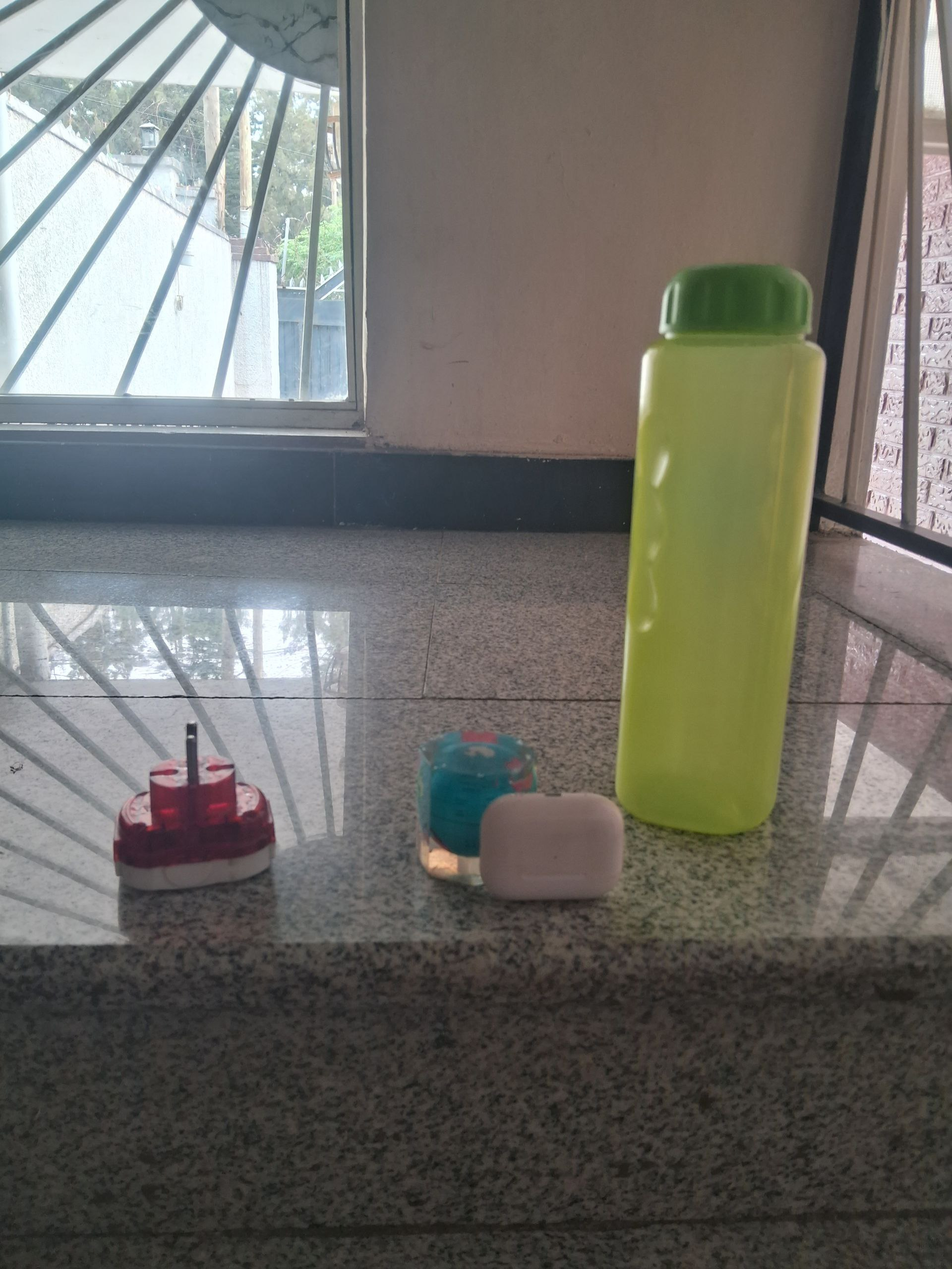Air_pod: (471, 793, 632, 905)
Multi_adapter: (107, 717, 284, 896)
Water_bottle: (610, 244, 829, 843)
world_globe: (414, 724, 539, 890)
